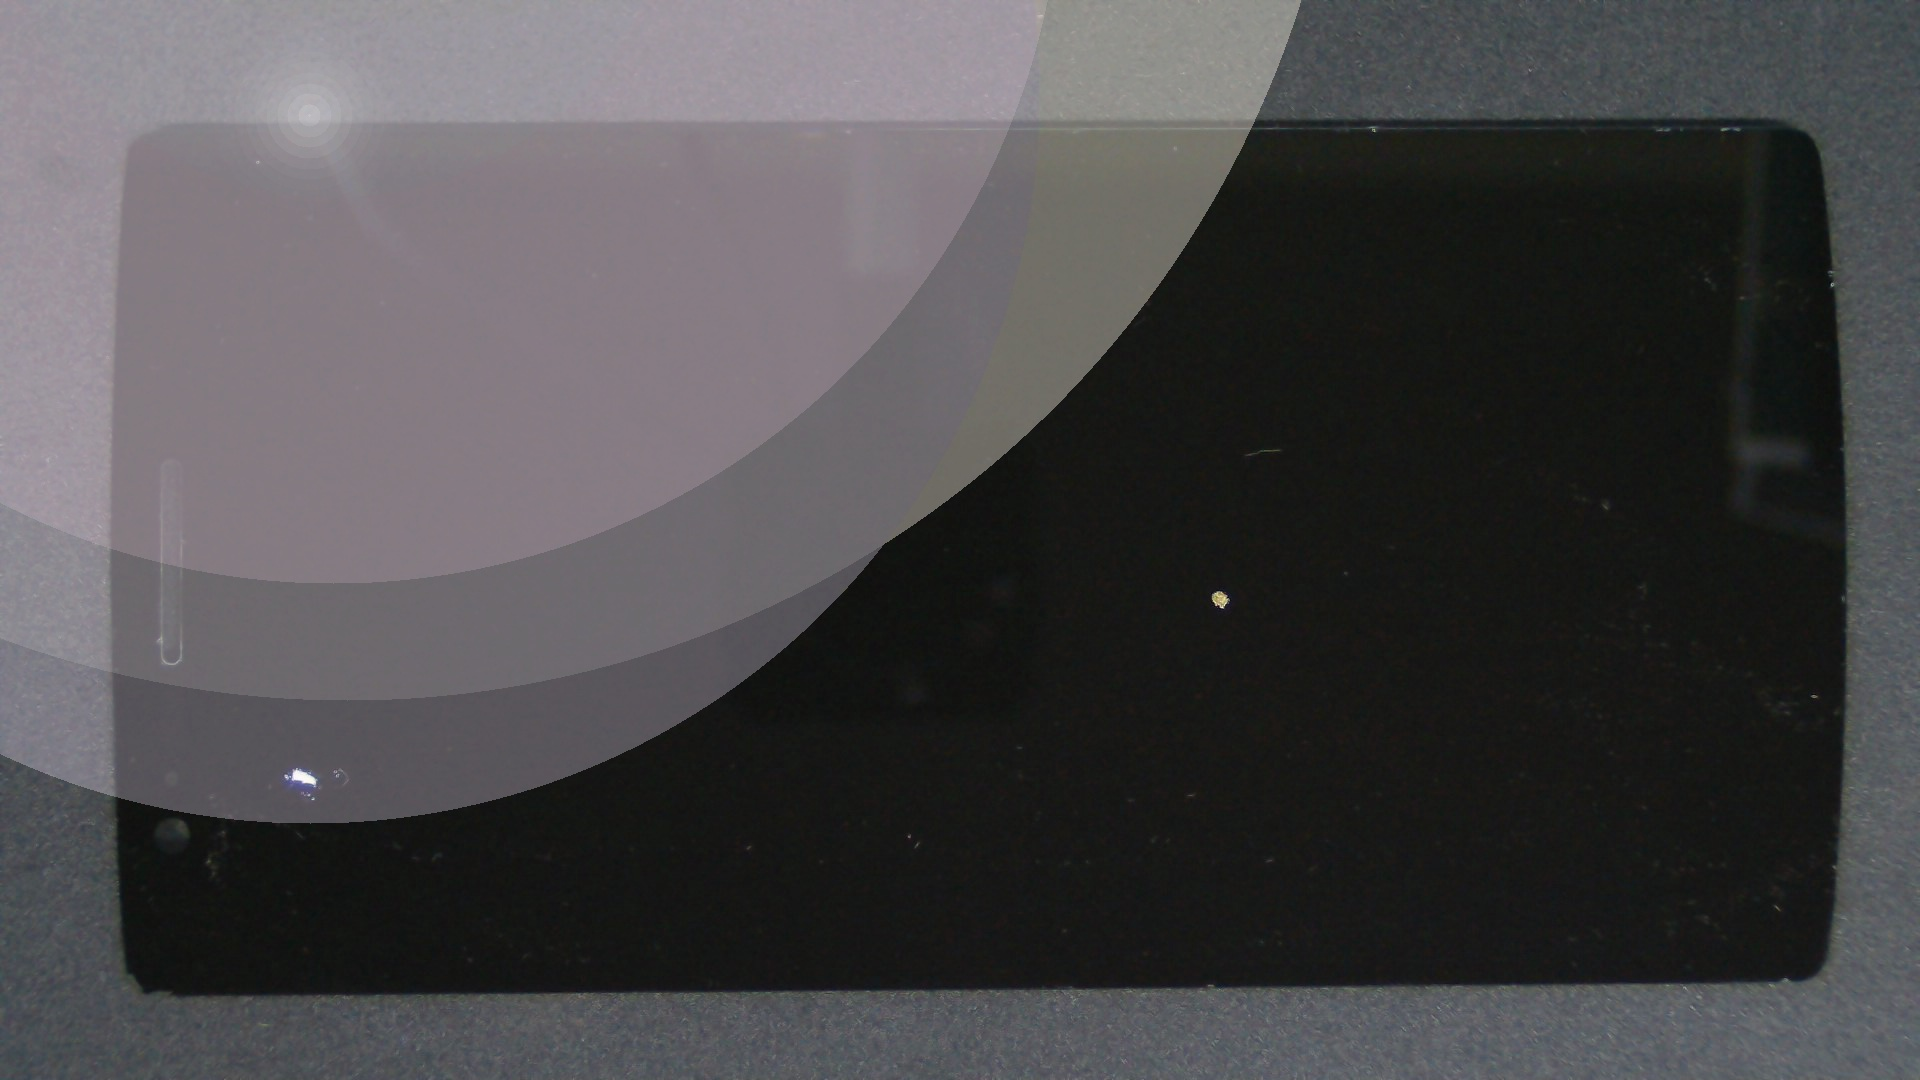oil: (612, 294, 1834, 882), (145, 381, 436, 1080)
